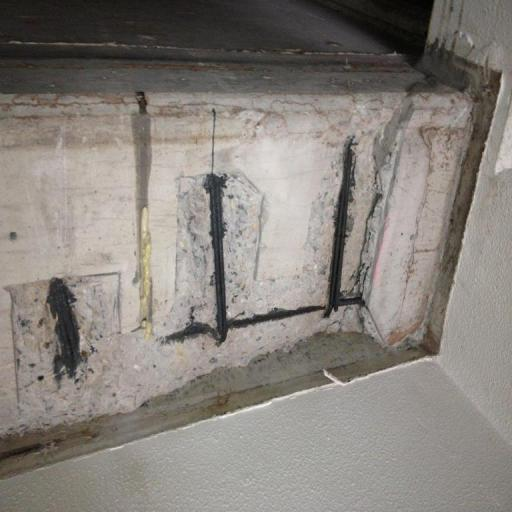spalling: (4, 132, 385, 446)
